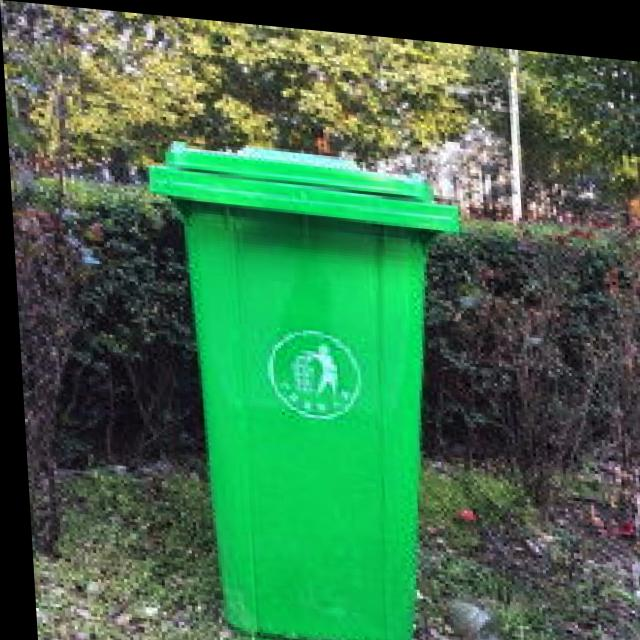garbage_bin: (139, 129, 474, 640)
